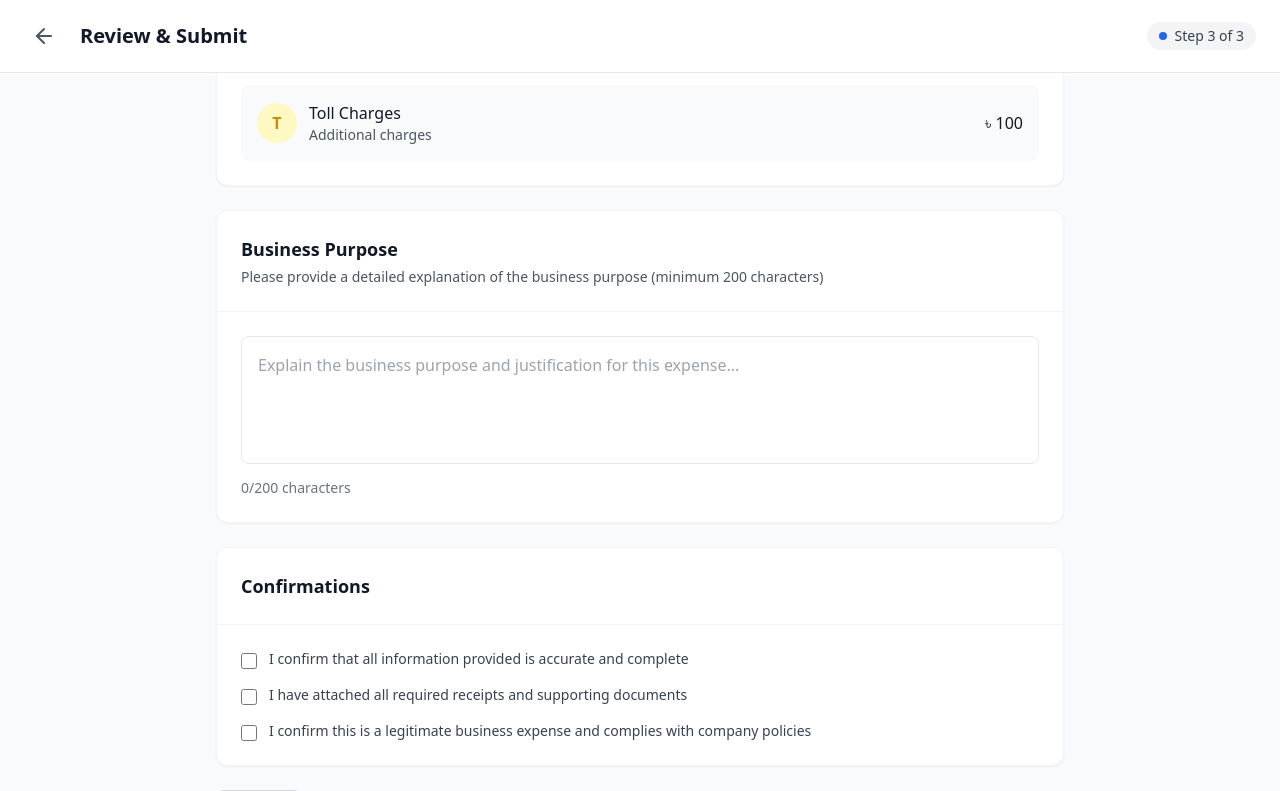
ReviewSubmission › enables submit button when all conditions are met
(page scrolled)
Replace the text in the text box with placeholder "Explain the business purpose and justification" with "A very long business purpose that meets the minimum character requirement. This is a detailed explanation of why this expense was necessary for business purposes and includes all relevant details abou": (640,400) [241,336,1039,464]
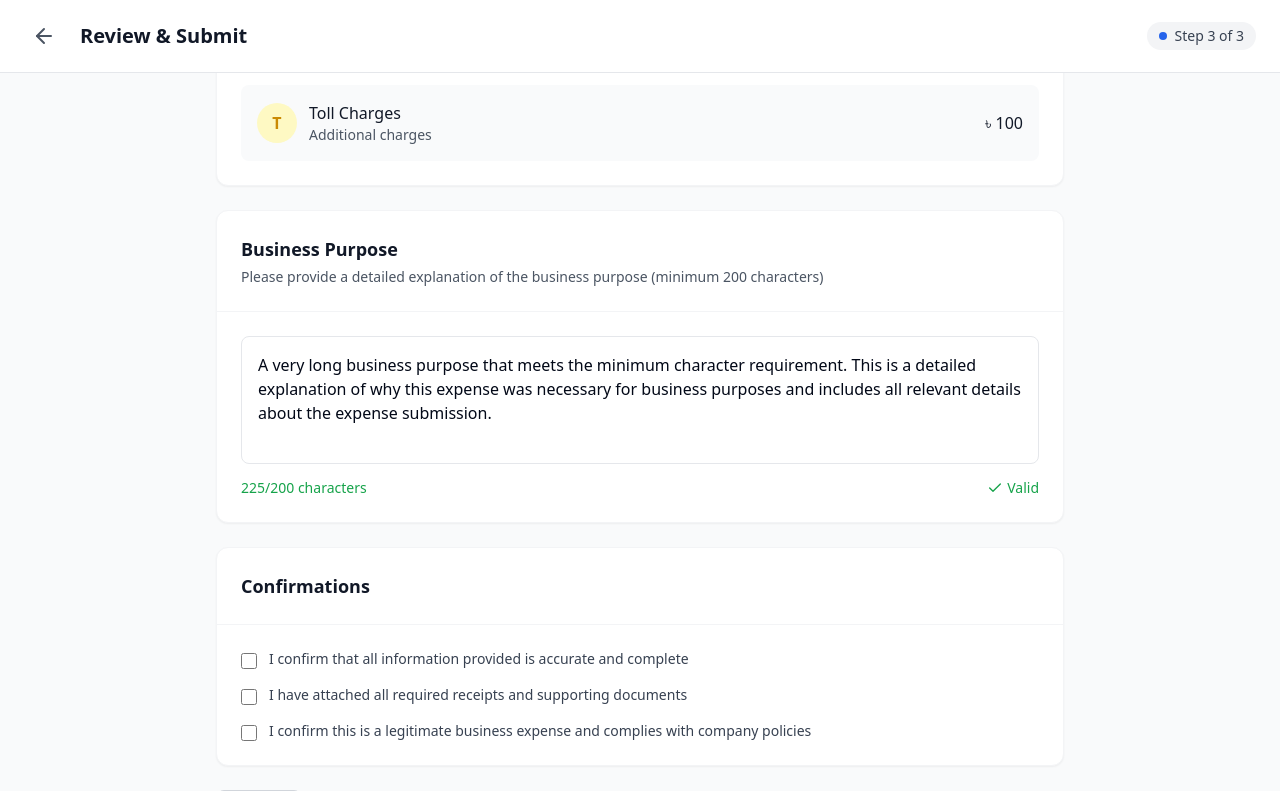
Click the 1st checkbox: (249,661) [241,653,257,669]
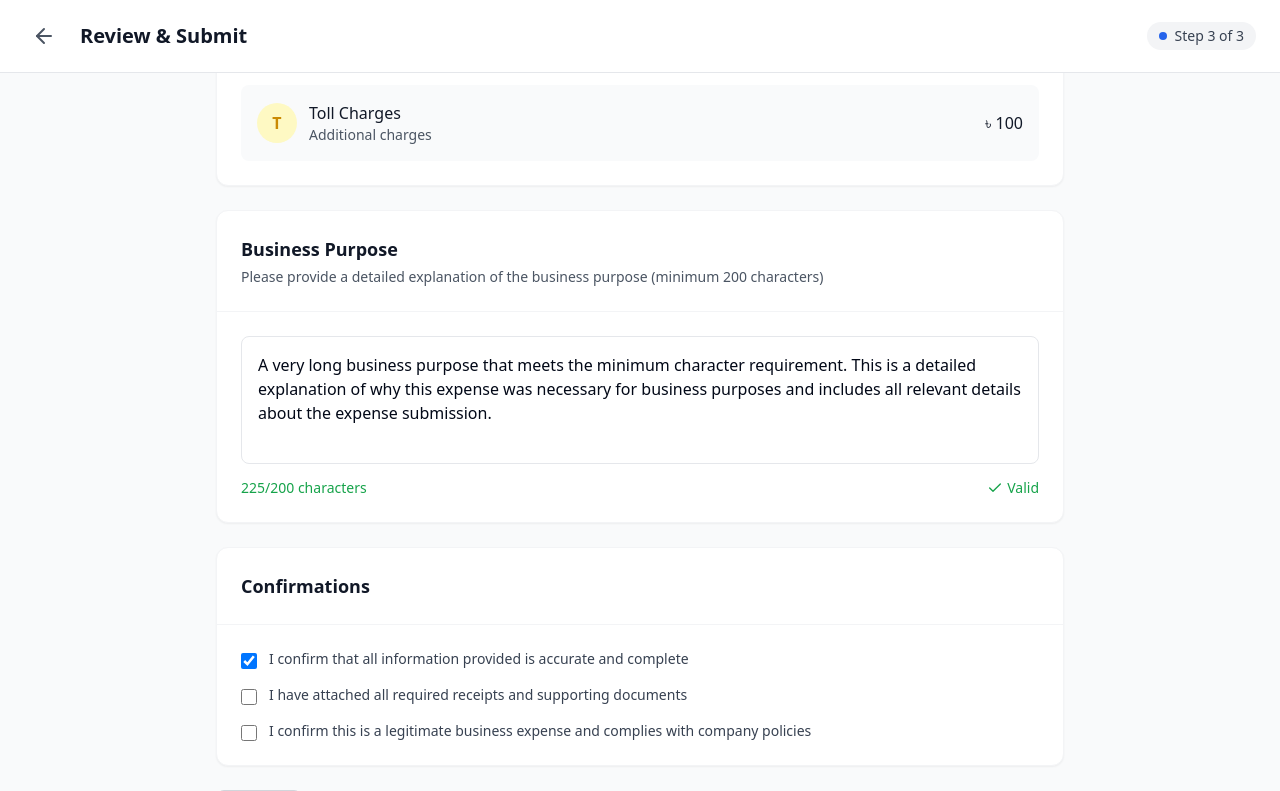
Click the 2nd checkbox: (249,697) [241,689,257,705]
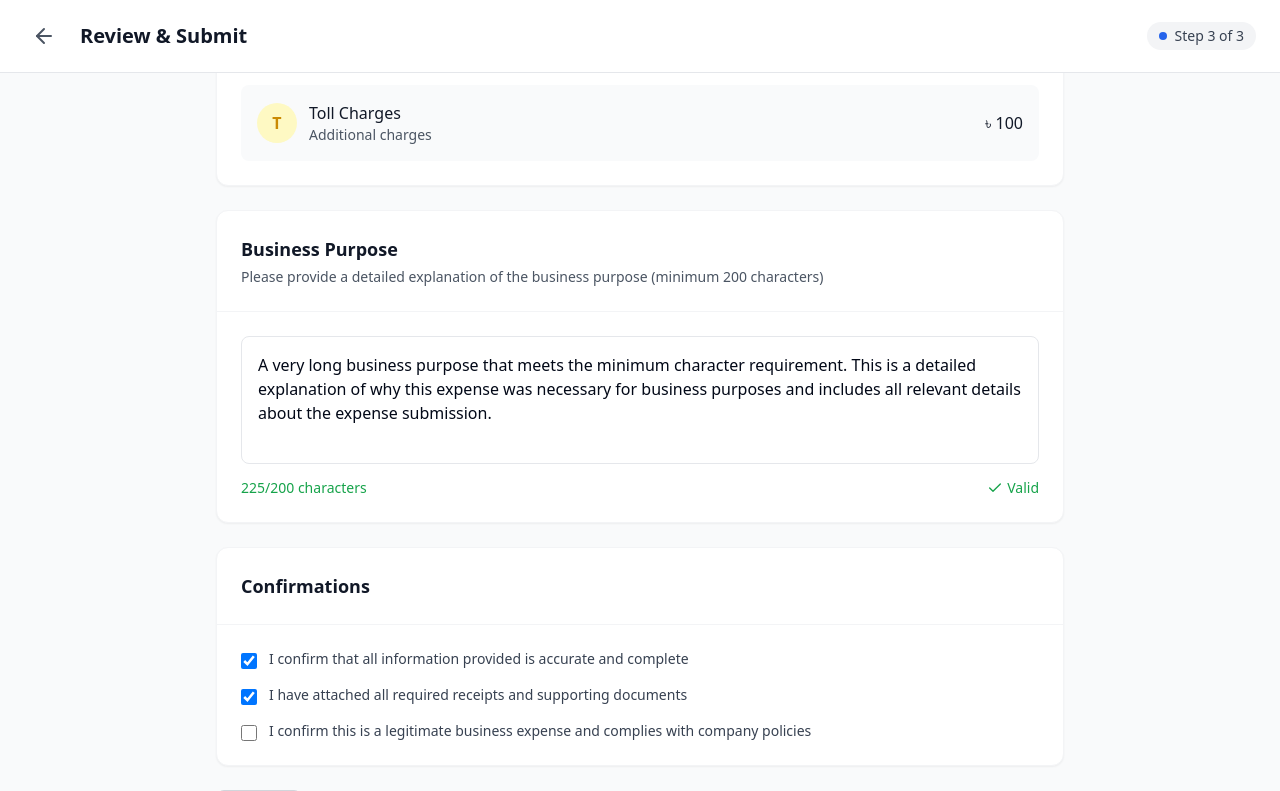
Click the 3rd checkbox: (249,733) [241,725,257,741]
(page scrolled)
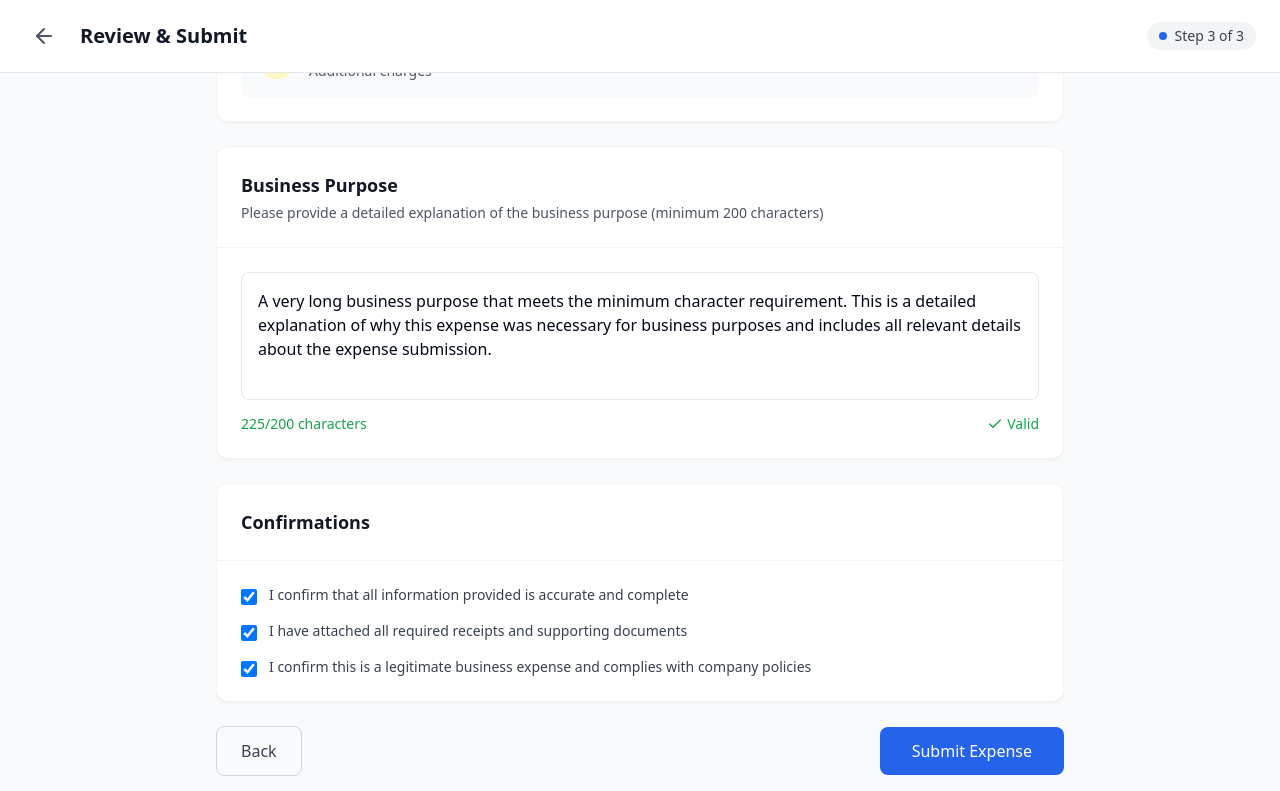
Check: the button "Submit Expense" is enabled, box [880,727,1064,775]
